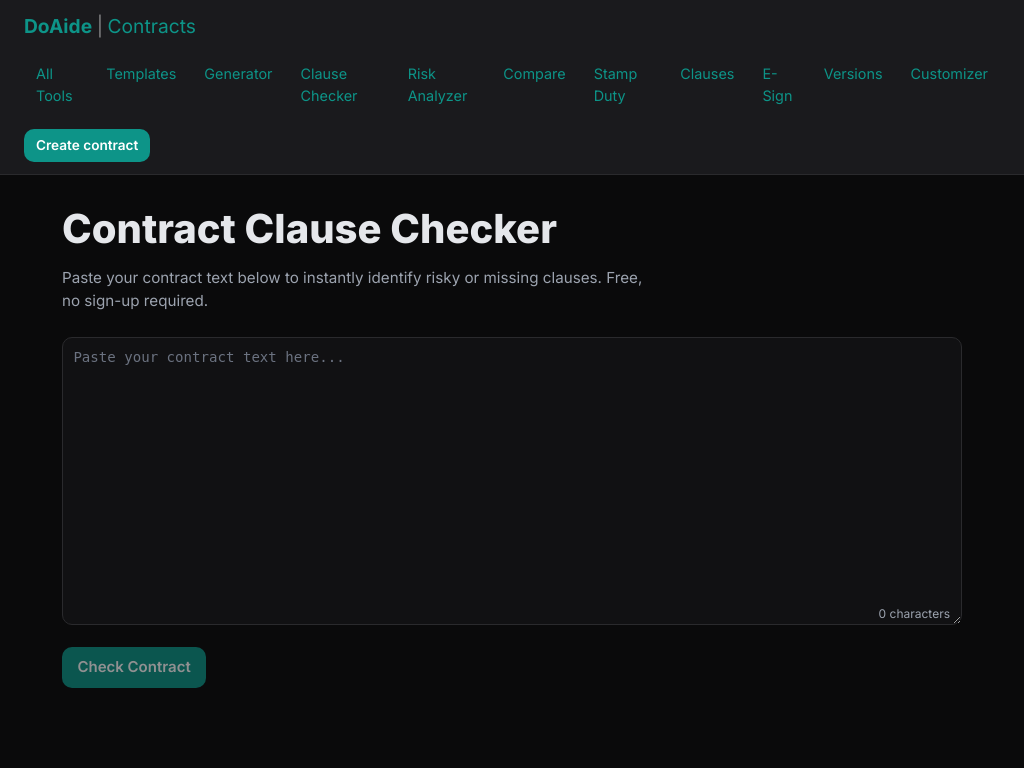
CheckerPage › enables check button when text is entered
Type "Some contract text" into the text box named "Contract text to check" at [512, 481], box [62,337,962,625]
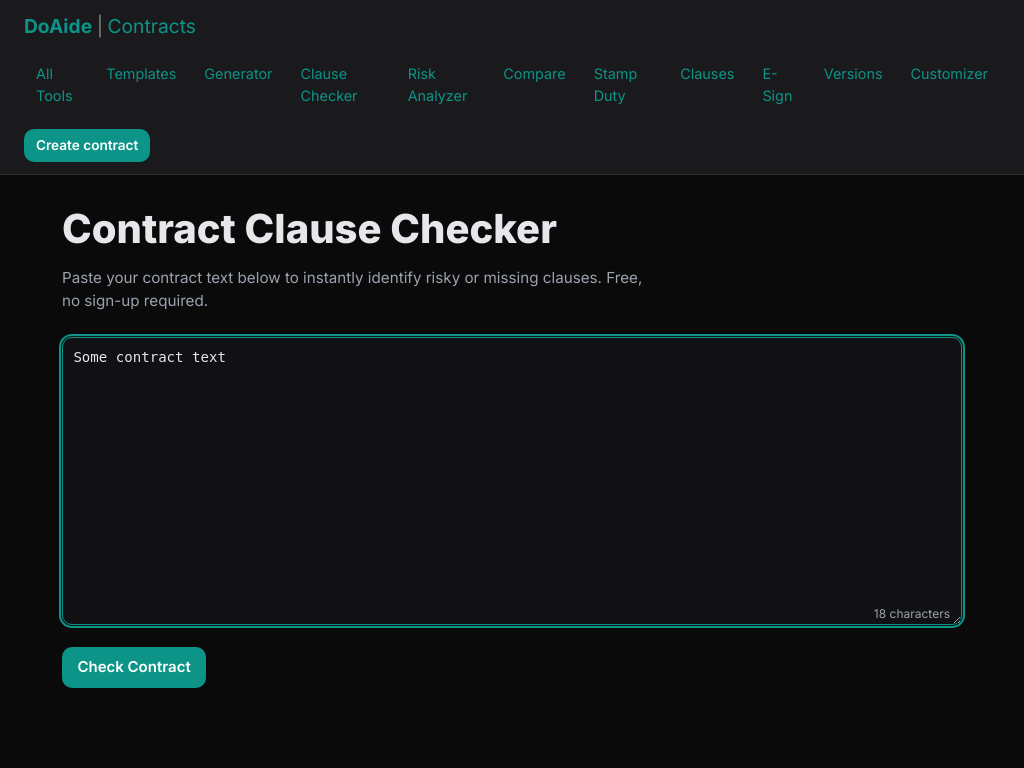
Expected: the button "Check Contract" is enabled, [62,647,206,688]
